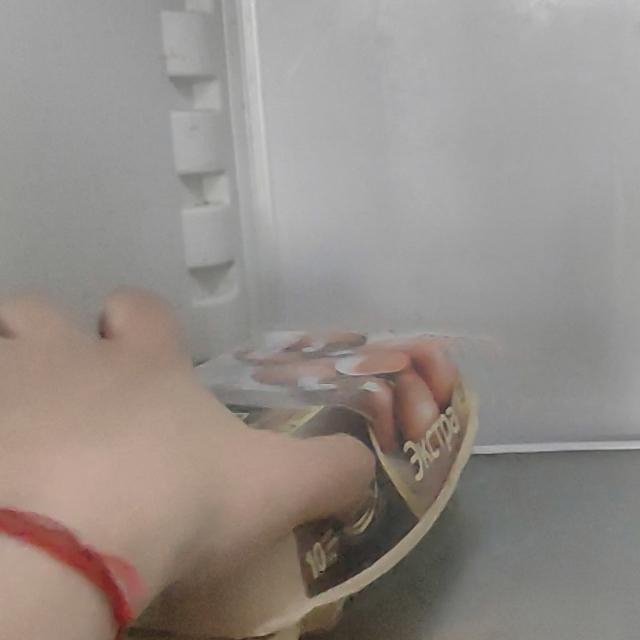egg: (0, 327, 469, 640)
